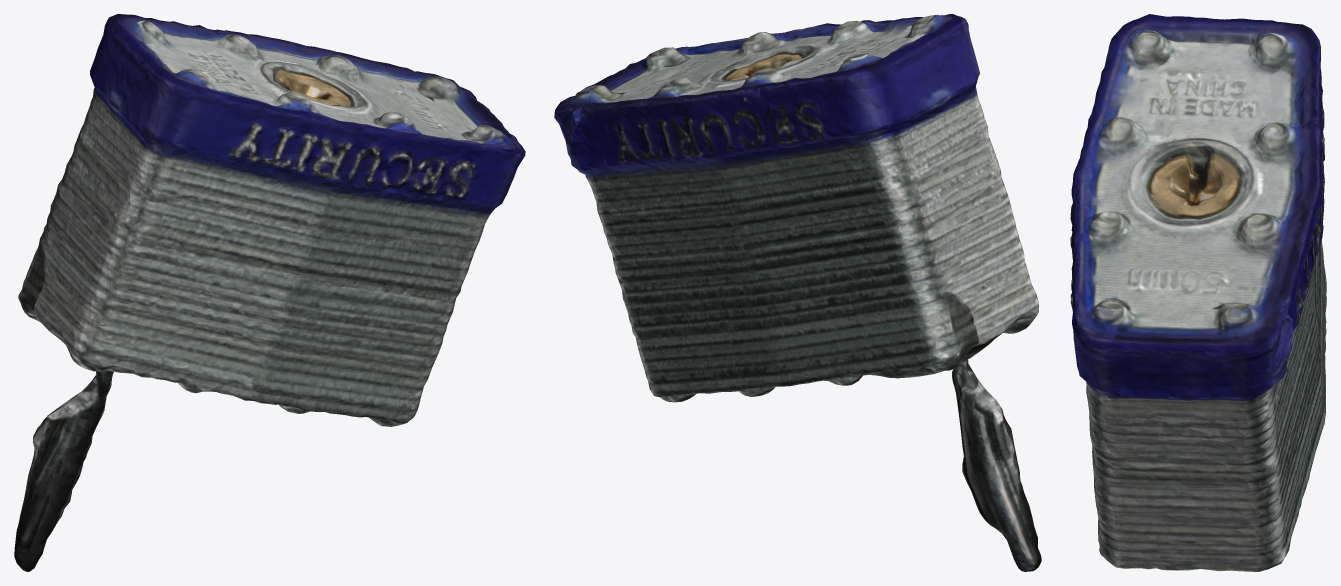
The picture shows the model from 3 angles, left to right: view 1: azimuth 30°, elevation 25°; view 2: azimuth 150°, elevation 25°; view 3: azimuth 270°, elevation 25°; orthographic projection. The views are drawn at different scales.
Visible parts, largest first — view 1: node; view 2: node; view 3: node.
Part boxes in pixels (<box>): node: <box>14,14,525,571</box>; node: <box>554,14,1041,571</box>; node: <box>1070,14,1326,571</box>.
Bounding box in the file's own units: 0.067 × 0.0681 × 0.0291.
Materials: 1 (1 with a texture image).
